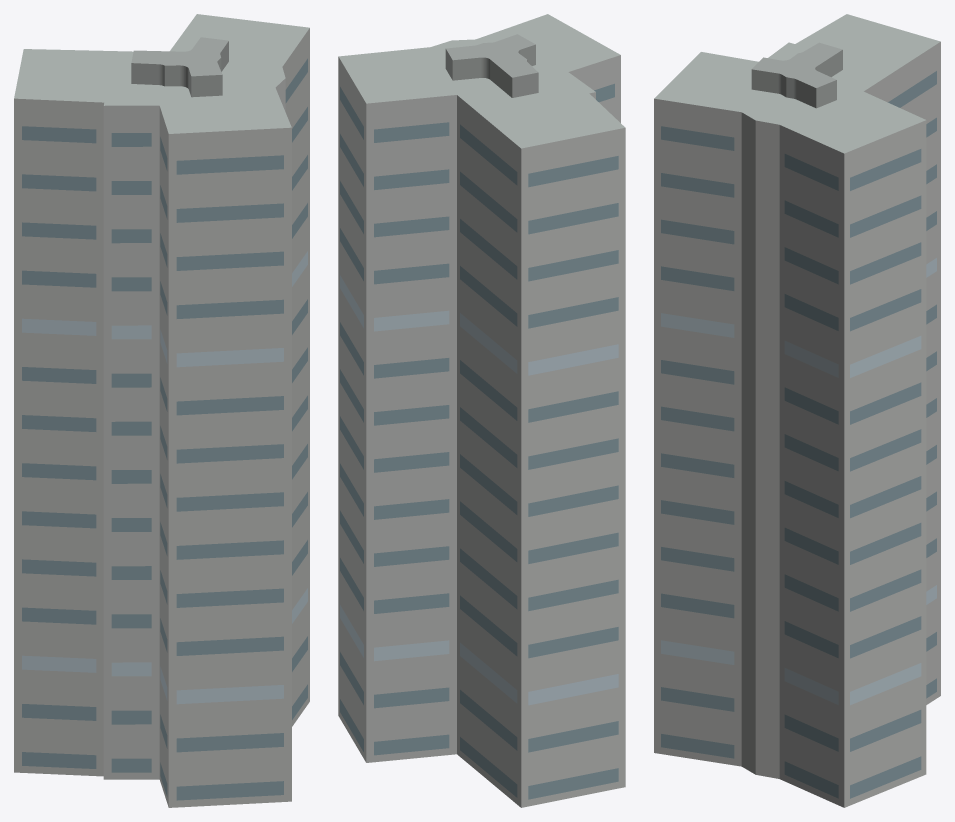
Rendered from fallback-gangdong-lotte-castle-first-102.glb.
The picture shows the model from 3 angles, left to right: view 1: azimuth 30°, elevation 25°; view 2: azimuth 150°, elevation 25°; view 3: azimuth 270°, elevation 25°; orthographic projection. The views are drawn at different scales.
Visible parts, largest first — view 1: fallback-gangdong-lotte-castle-first-102; view 2: fallback-gangdong-lotte-castle-first-102; view 3: fallback-gangdong-lotte-castle-first-102.
Part boxes in pixels (x1,y1,x2,y2): fallback-gangdong-lotte-castle-first-102: [14, 14, 309, 807]; fallback-gangdong-lotte-castle-first-102: [338, 14, 625, 807]; fallback-gangdong-lotte-castle-first-102: [654, 14, 940, 807].
Size of the model in its own units: 35.51 by 80 by 30.84.
